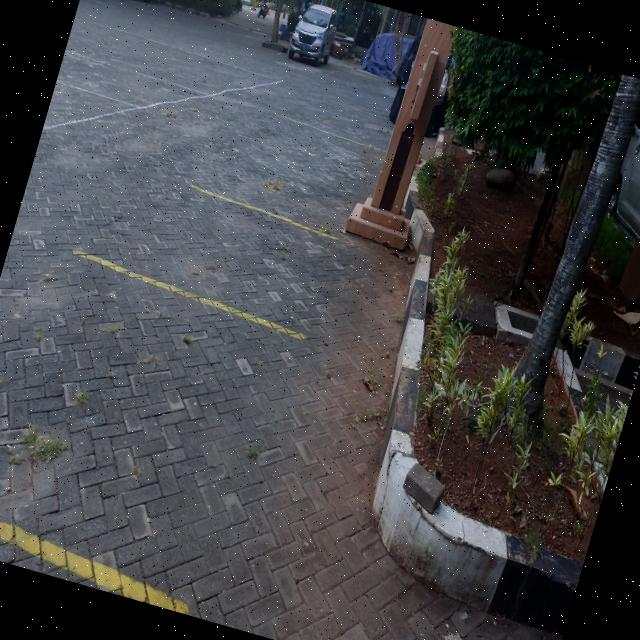empty: (0, 252, 300, 612), (71, 188, 367, 340)
